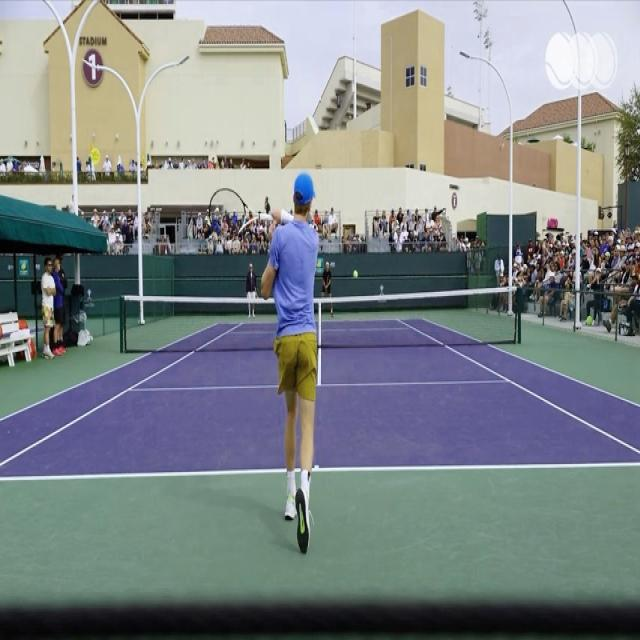forehand-finish: (211, 165, 325, 565)
